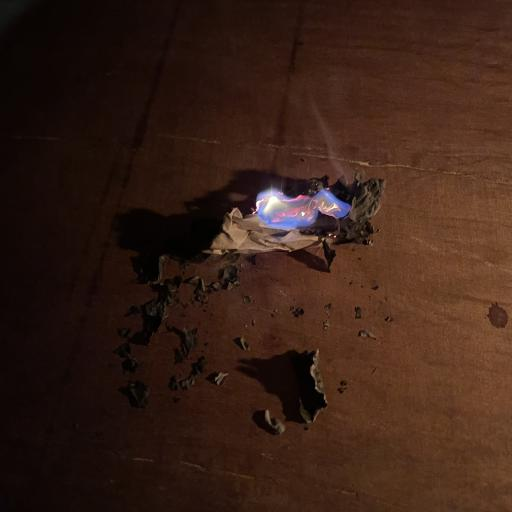fire: (212, 156, 403, 275)
